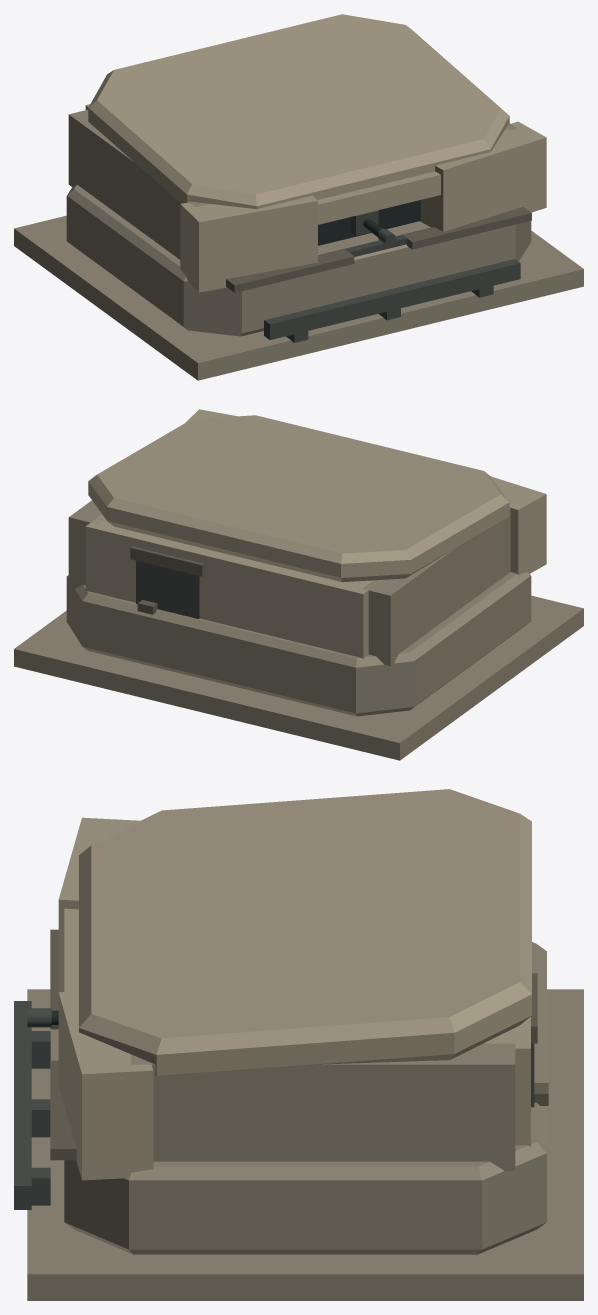
File: prototype.glb
3 renders of one model, top to bottom at view 1: azimuth 30°, elevation 25°; view 2: azimuth 150°, elevation 25°; view 3: azimuth 270°, elevation 25°, orthographic. The views are drawn at different scales.
Visible parts, largest first — view 1: bunker_surface_03, bunker_surface_02, bunker_surface_00, bunker_surface_01, bunker_surface_04, bunker_surface_05, bunker_surface_06; view 2: bunker_surface_03, bunker_surface_02, bunker_surface_00, bunker_surface_06, bunker_surface_04; view 3: bunker_surface_03, bunker_surface_02, bunker_surface_00, bunker_surface_01, bunker_surface_04, bunker_surface_06.
Boxes of the visible parts, left/top/right/bottom form: bunker_surface_03: left=85, top=14, right=546, bottom=292; bunker_surface_02: left=66, top=109, right=531, bottom=336; bunker_surface_00: left=14, top=215, right=583, bottom=380; bunker_surface_01: left=264, top=259, right=520, bottom=342; bunker_surface_04: left=226, top=206, right=531, bottom=292; bunker_surface_05: left=318, top=200, right=420, bottom=245; bunker_surface_06: left=318, top=210, right=433, bottom=256; bunker_surface_03: left=85, top=409, right=546, bottom=659; bunker_surface_02: left=66, top=500, right=531, bottom=716; bunker_surface_00: left=14, top=595, right=583, bottom=760; bunker_surface_06: left=136, top=560, right=199, bottom=618; bunker_surface_04: left=130, top=546, right=204, bottom=614; bunker_surface_03: left=58, top=789, right=531, bottom=1180; bunker_surface_02: left=64, top=942, right=546, bottom=1254; bunker_surface_00: left=27, top=989, right=583, bottom=1300; bunker_surface_01: left=14, top=1001, right=50, bottom=1209; bunker_surface_04: left=50, top=929, right=548, bottom=1160; bunker_surface_06: left=27, top=1008, right=534, bottom=1107.
Bounding box in the file's own units: 4.6 × 1.96 × 3.89.
